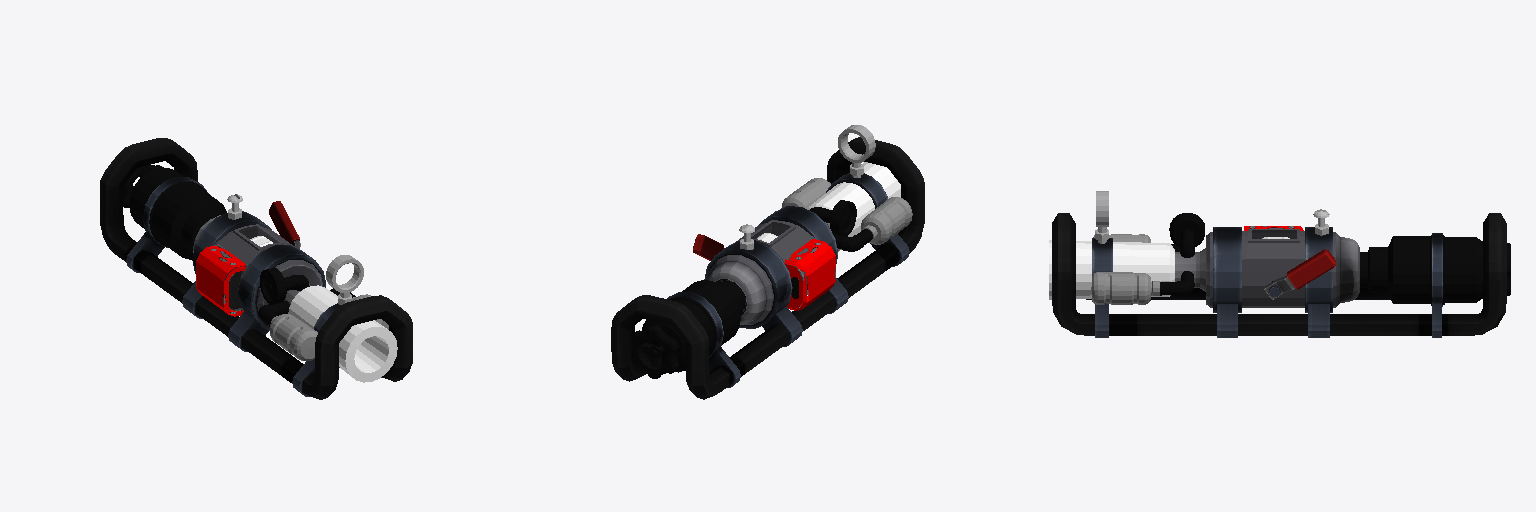
The picture shows the model from 3 angles: view 1: azimuth 30°, elevation 25°; view 2: azimuth 150°, elevation 25°; view 3: azimuth 270°, elevation 25°; orthographic projection.
Parts seen in each view (by area): view 1: polySurface126.013_Mesh.041, fant_cannon_sm_style_Mesh.031; view 2: polySurface126.013_Mesh.041, fant_cannon_sm_style_Mesh.031; view 3: polySurface126.013_Mesh.041, fant_cannon_sm_style_Mesh.031.
Part boxes in pixels (x1,y1,x2,y2): polySurface126.013_Mesh.041: (123, 164, 397, 396); fant_cannon_sm_style_Mesh.031: (100, 138, 412, 399); polySurface126.013_Mesh.041: (631, 125, 912, 387); fant_cannon_sm_style_Mesh.031: (611, 137, 924, 399); polySurface126.013_Mesh.041: (1049, 191, 1510, 337); fant_cannon_sm_style_Mesh.031: (1052, 213, 1506, 335).
Size of the model in its own units: 3.51 by 3.97 by 13.08.
8 materials, 1 textured.